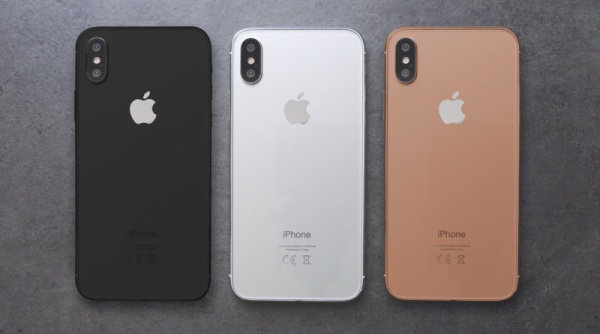apple: (426, 81, 475, 134), (276, 83, 329, 127), (120, 89, 172, 130)
